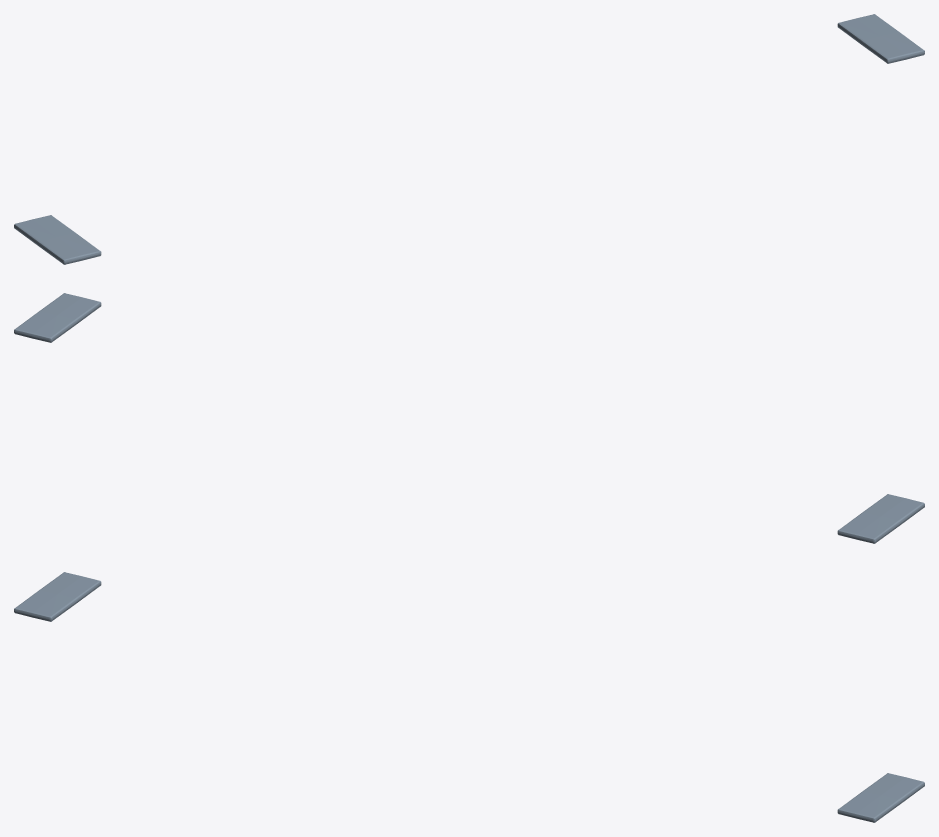
File: 30_PS_Table_ServiceAccessLids.fbx
3 renders of one model, top to bottom at view 1: azimuth 30°, elevation 25°; view 2: azimuth 150°, elevation 25°; view 3: azimuth 330°, elevation 25°, orthographic.
Visible parts, largest first — view 1: PS_Table_ServiceAccessLids_Piece_0000, PS_Table_ServiceAccessLids_Piece_0001; view 2: PS_Table_ServiceAccessLids_Piece_0000, PS_Table_ServiceAccessLids_Piece_0001; view 3: PS_Table_ServiceAccessLids_Piece_0000, PS_Table_ServiceAccessLids_Piece_0001.
Boxes of the visible parts, bbox=[...] form: PS_Table_ServiceAccessLids_Piece_0000: bbox=[14, 215, 101, 264]; PS_Table_ServiceAccessLids_Piece_0001: bbox=[837, 14, 924, 63]; PS_Table_ServiceAccessLids_Piece_0000: bbox=[837, 494, 924, 543]; PS_Table_ServiceAccessLids_Piece_0001: bbox=[14, 293, 101, 342]; PS_Table_ServiceAccessLids_Piece_0000: bbox=[14, 572, 101, 621]; PS_Table_ServiceAccessLids_Piece_0001: bbox=[837, 773, 924, 822].
Size of the model in its own units: 902 by 5.5 by 92.
